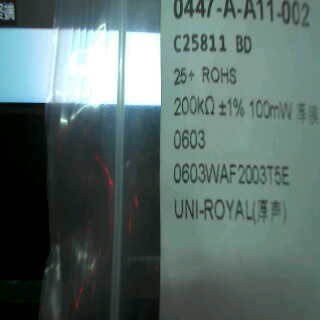200kR: (174, 91, 218, 120)
